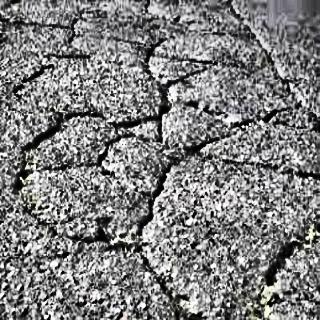alligator-crack: (10, 48, 222, 242)
crack: (128, 238, 208, 320), (252, 223, 320, 319), (221, 101, 320, 133), (221, 154, 320, 182), (0, 12, 81, 45), (253, 44, 300, 96), (228, 0, 260, 40)
